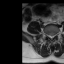CCS_normal: (50, 32, 52, 42)
LFS_normal: (54, 32, 56, 38)
LLS_normal: (52, 32, 54, 40)
RFS_normal: (47, 32, 49, 39)
RLS_normal: (49, 32, 50, 40)
